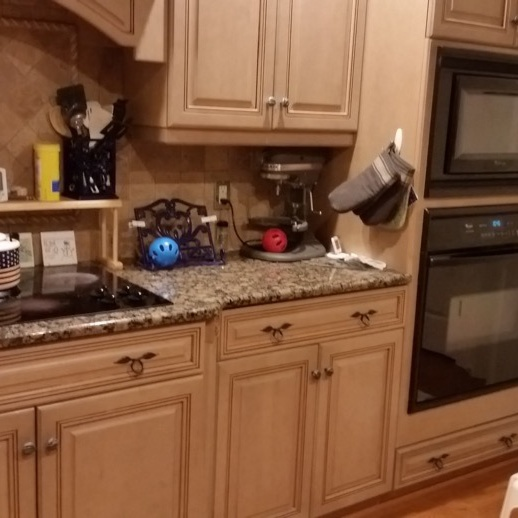ball: (148, 235, 182, 268), (260, 225, 289, 255)
